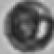correct: (3, 0, 52, 52)
